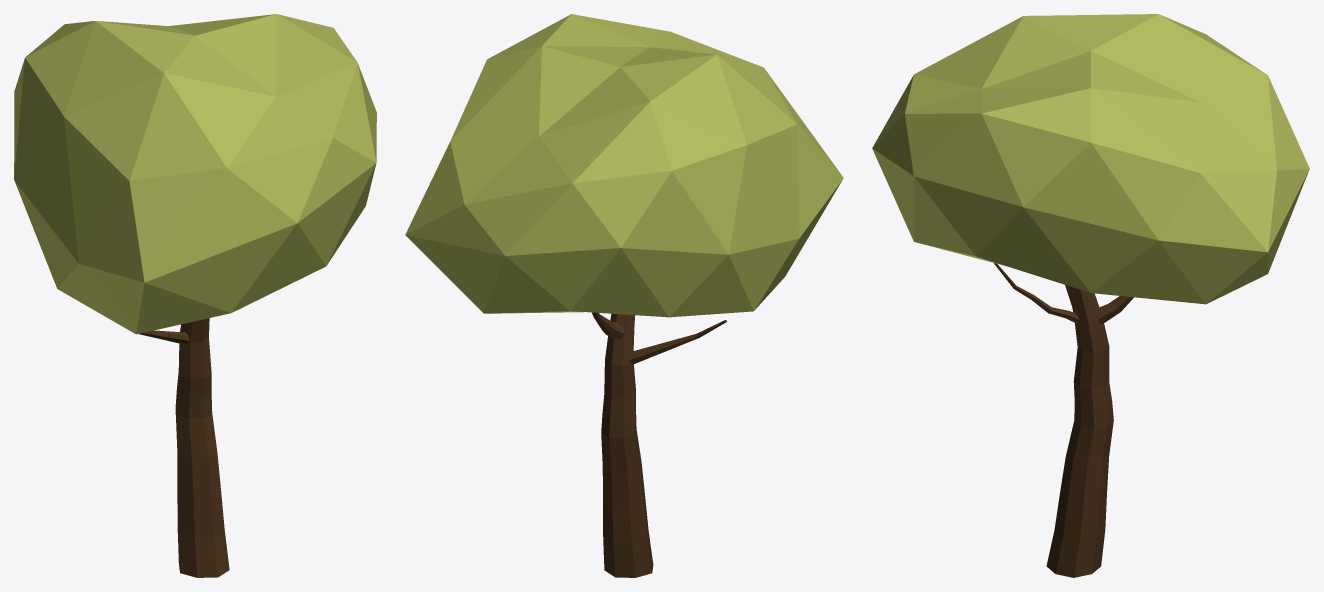
Rendered from Tree 006.fbx.
3 views of the same model, side by side, from view 1: azimuth 30°, elevation 25°; view 2: azimuth 150°, elevation 25°; view 3: azimuth 270°, elevation 25° (orthographic). The views are drawn at different scales.
Parts seen in each view (by area): view 1: Tree 001.002; view 2: Tree 001.002; view 3: Tree 001.002.
Part boxes in pixels (left/top/right/bottom): Tree 001.002: left=14, top=14, right=376, bottom=577; Tree 001.002: left=405, top=14, right=843, bottom=577; Tree 001.002: left=872, top=14, right=1309, bottom=577.
Bounding box in the file's own units: 359 × 604 × 460.
